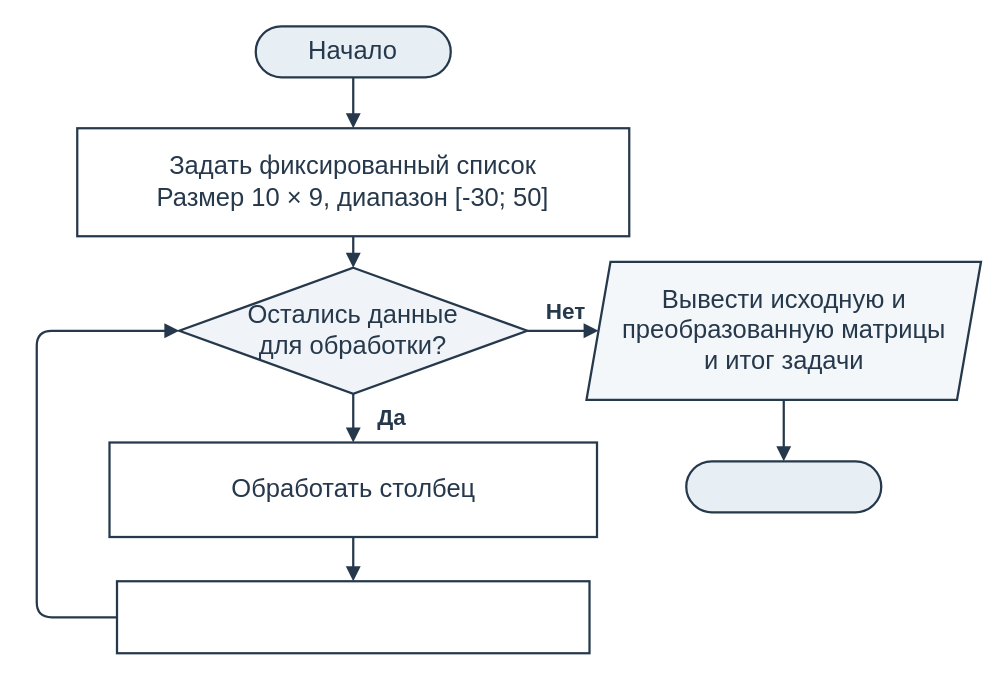
The diagram is 1008 pixels wide and 681 high, and some of its shapes have lost their labels. Each missing label, with the centre of its shape:
"Конец" belongs at (783,486).
"Перейти к следующим данным" belongs at (352,616).
